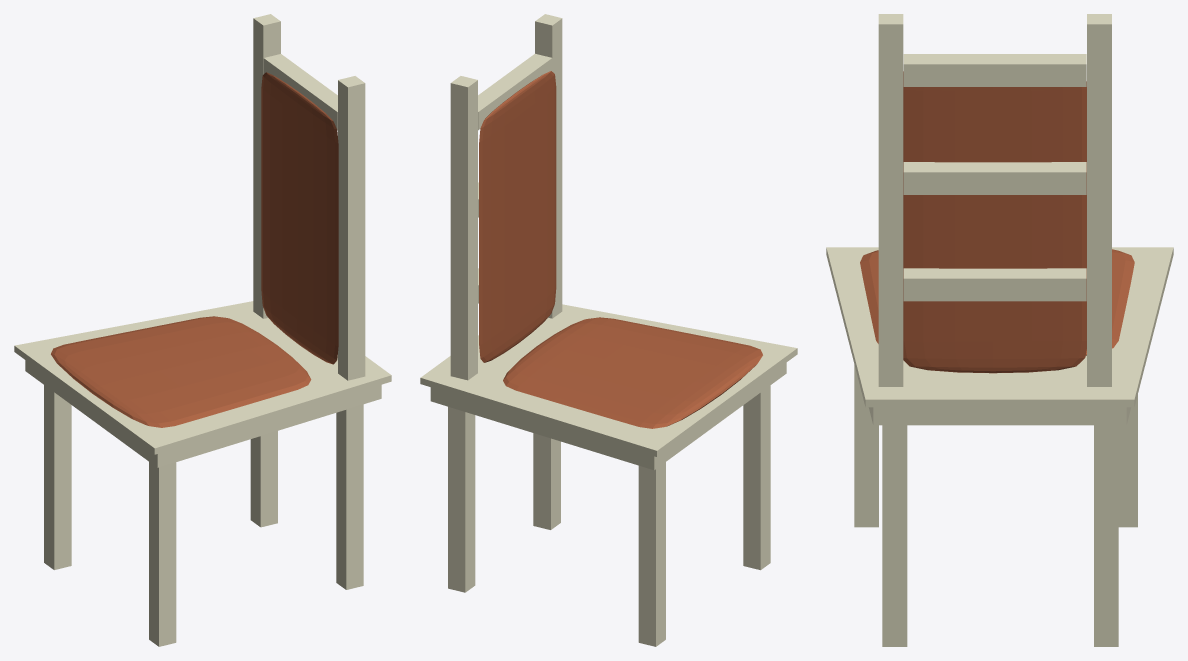
File: chaise_v2.fbx
The picture shows the model from 3 angles, left to right: view 1: azimuth 30°, elevation 25°; view 2: azimuth 150°, elevation 25°; view 3: azimuth 270°, elevation 25°; orthographic projection. The views are drawn at different scales.
Visible parts, largest first — view 1: Cube_001, Cube, Cube_009, Cube_010, Cube_005, Cube_008, Cube_006, Cube_011, Cube_007, Cube_014; view 2: Cube_001, Cube, Cube_009, Cube_011, Cube_007, Cube_006, Cube_005, Cube_010, Cube_008, Cube_014; view 3: Cube_001, Cube_009, Cube_010, Cube_011, Cube_012, Cube_014, Cube_013, Cube_008, Cube_007, Cube_005, Cube, Cube_006.
Boxes of the visible parts, box(x1,y1,x2,y2) form: Cube_001: box(261, 72, 338, 364); Cube: box(51, 316, 311, 427); Cube_009: box(14, 301, 391, 467); Cube_010: box(338, 76, 365, 380); Cube_005: box(149, 462, 176, 646); Cube_008: box(336, 404, 363, 589); Cube_006: box(44, 385, 71, 569); Cube_011: box(253, 14, 280, 318); Cube_007: box(250, 431, 277, 527); Cube_014: box(263, 54, 337, 130); Cube_001: box(479, 71, 556, 362); Cube: box(503, 317, 762, 428); Cube_009: box(420, 304, 797, 470); Cube_011: box(450, 76, 477, 380); Cube_007: box(448, 406, 475, 592); Cube_006: box(638, 462, 665, 646); Cube_005: box(743, 385, 770, 570); Cube_010: box(535, 14, 562, 318); Cube_008: box(533, 433, 560, 529); Cube_014: box(478, 53, 552, 130); Cube_001: box(903, 71, 1086, 373); Cube_009: box(826, 247, 1173, 425); Cube_010: box(878, 14, 903, 386); Cube_011: box(1087, 14, 1111, 386); Cube_012: box(903, 268, 1086, 301); Cube_014: box(903, 54, 1086, 86); Cube_013: box(903, 162, 1086, 194); Cube_008: box(882, 425, 907, 646); Cube_007: box(1094, 425, 1118, 646); Cube_005: box(854, 365, 878, 527); Cube: box(860, 249, 1134, 355); Cube_006: box(1118, 394, 1137, 527).
Size of the model in its own units: 1.78 by 3.39 by 1.71.
